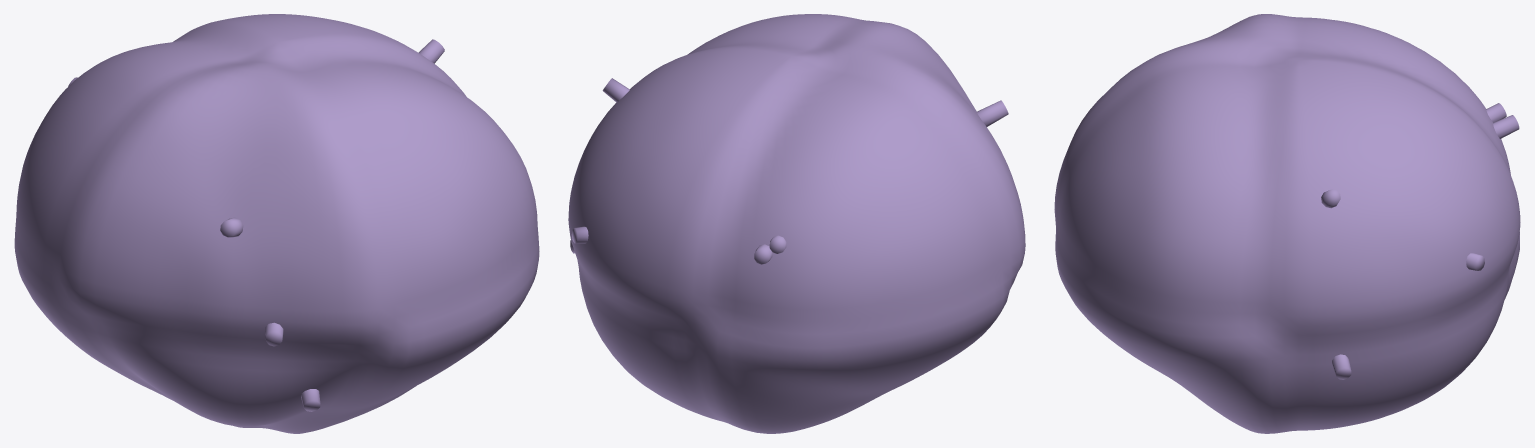
The model's file is white-blood-cell-shells.glb.
The picture shows the model from 3 angles, left to right: view 1: azimuth 30°, elevation 25°; view 2: azimuth 150°, elevation 25°; view 3: azimuth 270°, elevation 25°; orthographic projection. The views are drawn at different scales.
Visible parts, largest first — view 1: membrane; view 2: membrane; view 3: membrane.
Boxes of the visible parts, box(x1,y1,x2,y2) form: membrane: box(14, 14, 539, 433); membrane: box(568, 14, 1025, 433); membrane: box(1054, 14, 1520, 433).
Size of the model in its own units: 5.89 by 4.83 by 5.84.
